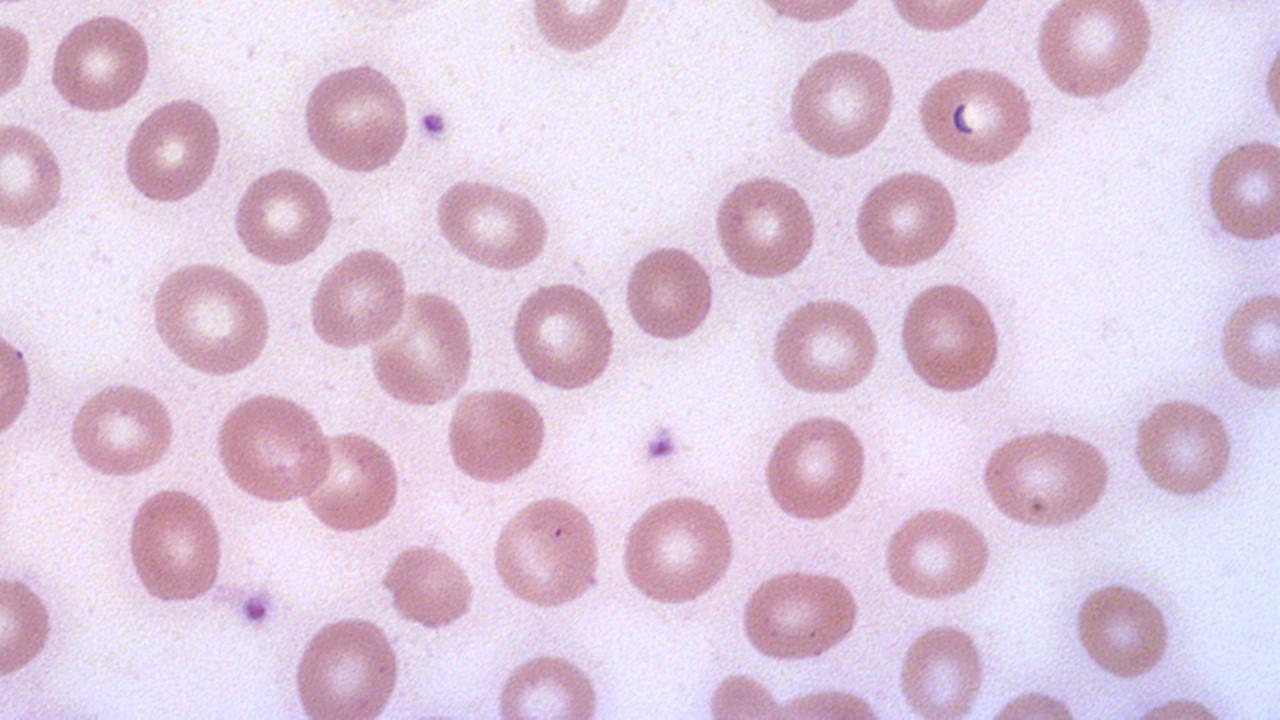Platelets: (649, 425, 673, 456), (249, 597, 265, 620), (427, 112, 442, 132)
RBC: (146, 258, 274, 379), (616, 490, 740, 610), (978, 424, 1116, 531), (212, 390, 333, 509), (363, 286, 478, 410), (489, 492, 605, 613), (299, 57, 415, 177), (783, 43, 898, 163), (913, 62, 1039, 170), (1029, 1, 1159, 105), (895, 277, 1006, 398), (123, 482, 226, 610), (738, 564, 866, 666), (760, 410, 872, 526), (506, 279, 618, 393), (709, 171, 822, 283), (288, 611, 406, 718), (430, 174, 555, 273), (766, 295, 884, 399), (119, 94, 226, 206), (296, 427, 405, 536), (1129, 393, 1239, 501), (850, 166, 962, 272), (878, 504, 994, 606), (62, 380, 180, 479), (47, 9, 154, 118), (305, 243, 409, 354), (231, 164, 342, 268), (443, 384, 552, 488), (1070, 578, 1176, 682), (620, 240, 716, 345), (892, 618, 992, 718), (376, 540, 478, 634), (1202, 133, 1280, 247), (0, 118, 68, 235), (492, 649, 606, 717), (1215, 285, 1280, 394), (1, 566, 58, 684), (524, 1, 639, 58), (1, 308, 36, 454), (878, 0, 998, 33), (748, 0, 874, 28), (0, 11, 34, 113), (1257, 18, 1279, 145)
